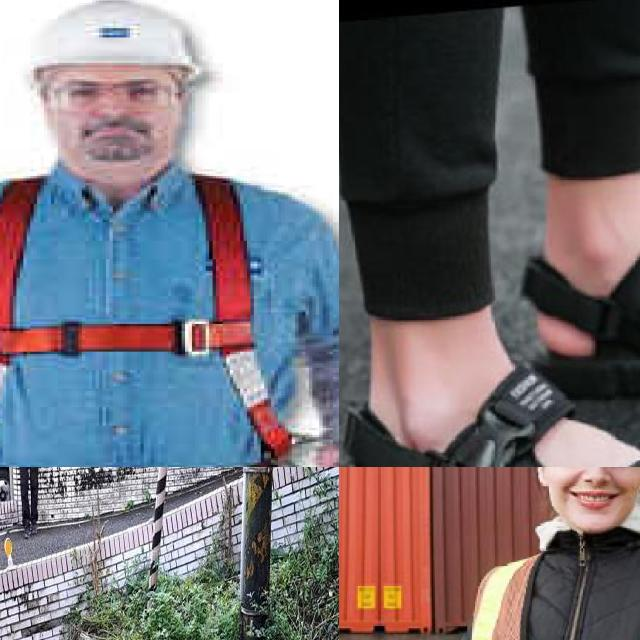Harness: (0, 170, 299, 467)
No_Ear-Protection: (537, 467, 549, 486)
Sandals: (339, 305, 640, 467)
face_nomask: (546, 467, 640, 533)
